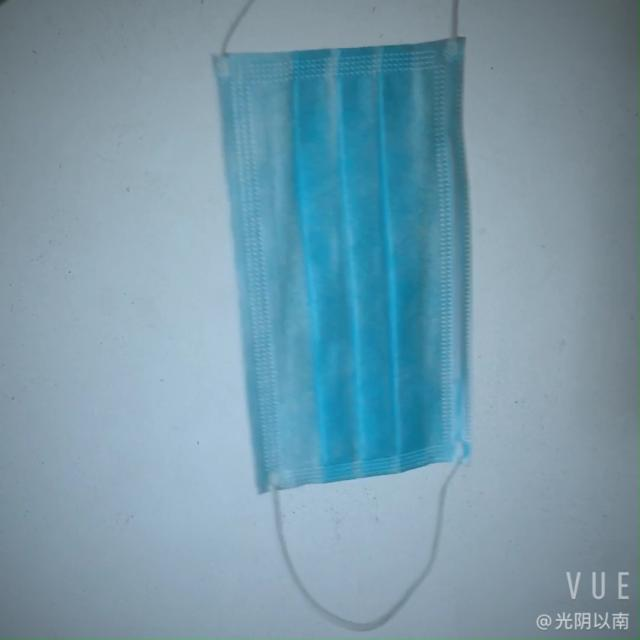face mask: (216, 18, 484, 502)
